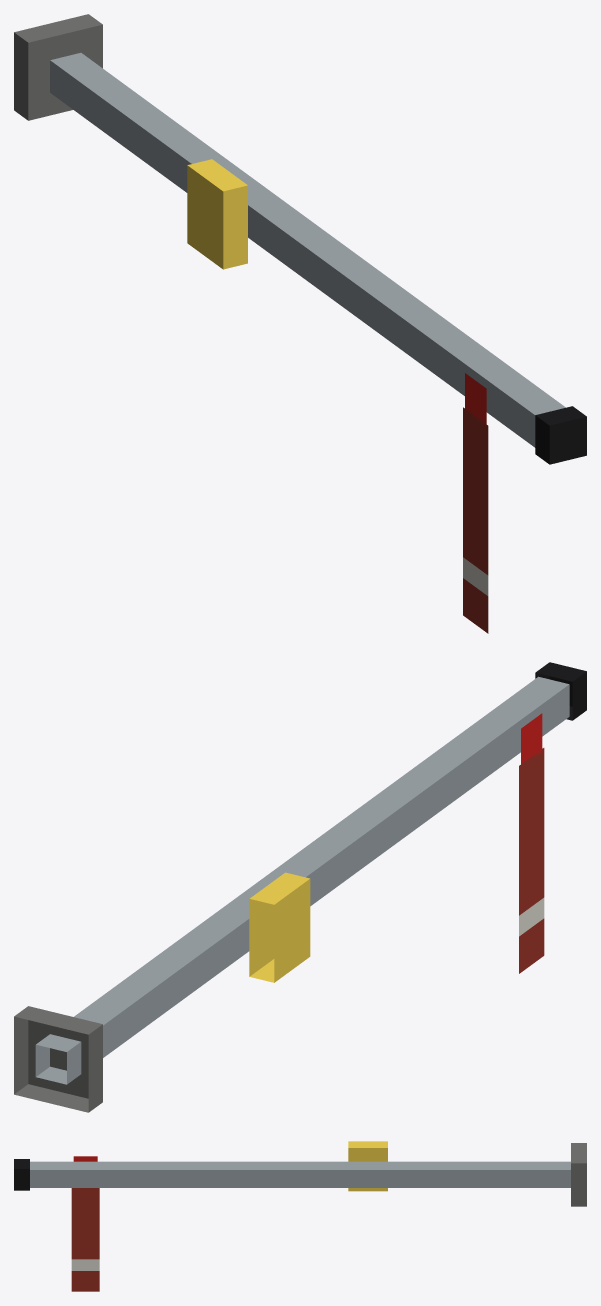
File: red.glb
3 views of the same model, one above another, from view 1: azimuth 30°, elevation 25°; view 2: azimuth 150°, elevation 25°; view 3: azimuth 270°, elevation 25° (orthographic). The views are drawn at different scales.
Parts seen in each view (by area): view 1: signal_semaphore_entry_red; view 2: signal_semaphore_entry_red; view 3: signal_semaphore_entry_red.
Part boxes in pixels (left/top/right/bottom): signal_semaphore_entry_red: left=14, top=14, right=586, bottom=633; signal_semaphore_entry_red: left=14, top=662, right=586, bottom=1112; signal_semaphore_entry_red: left=14, top=1141, right=586, bottom=1291.
Size of the model in its own units: 1.3 by 4.05 by 14.4.
